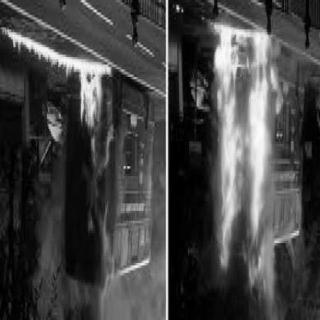Fire: (0, 26, 124, 236), (205, 23, 297, 280)
